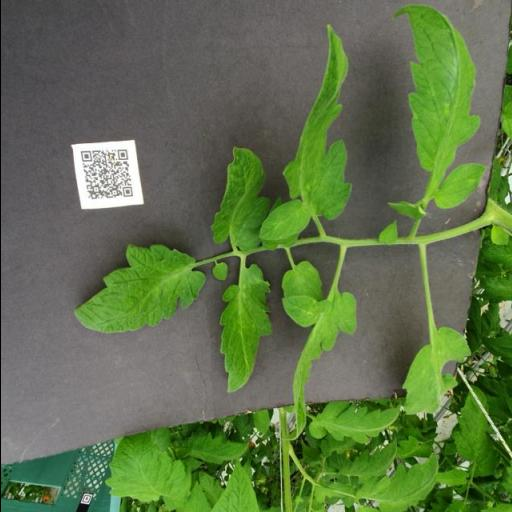Healthy: (256, 22, 354, 244), (390, 4, 489, 209), (72, 244, 206, 335), (218, 264, 273, 394), (210, 145, 270, 252)
